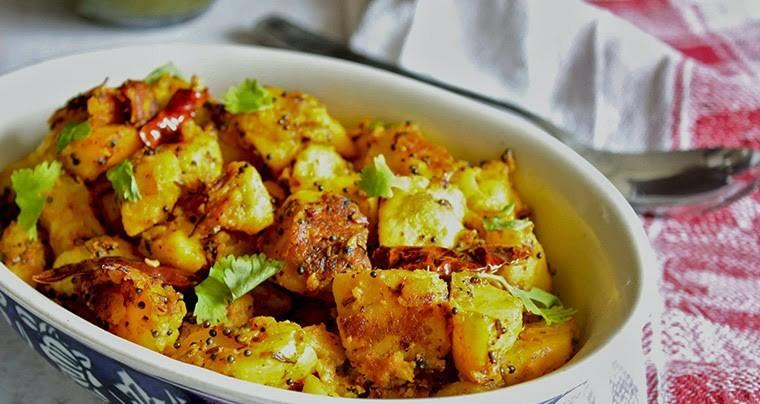AlooMasala: (0, 61, 577, 400)
